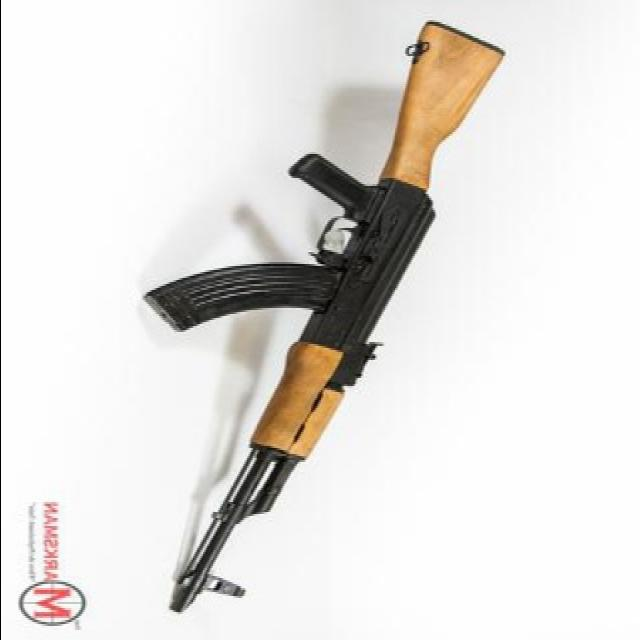rifle: (146, 17, 513, 621)
